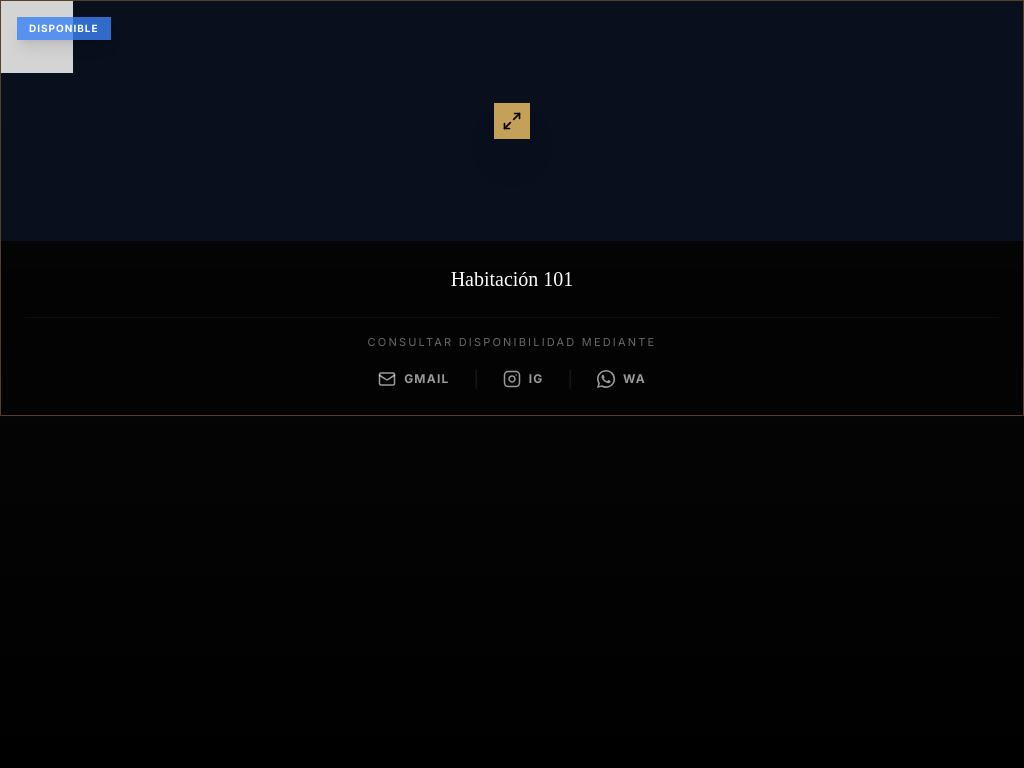
Test case: RoomCard › abre el lightbox al hacer clic en la imagen
Click the element with class "cursor-pointer".
click(512, 121)  # box [1,1,1023,241]
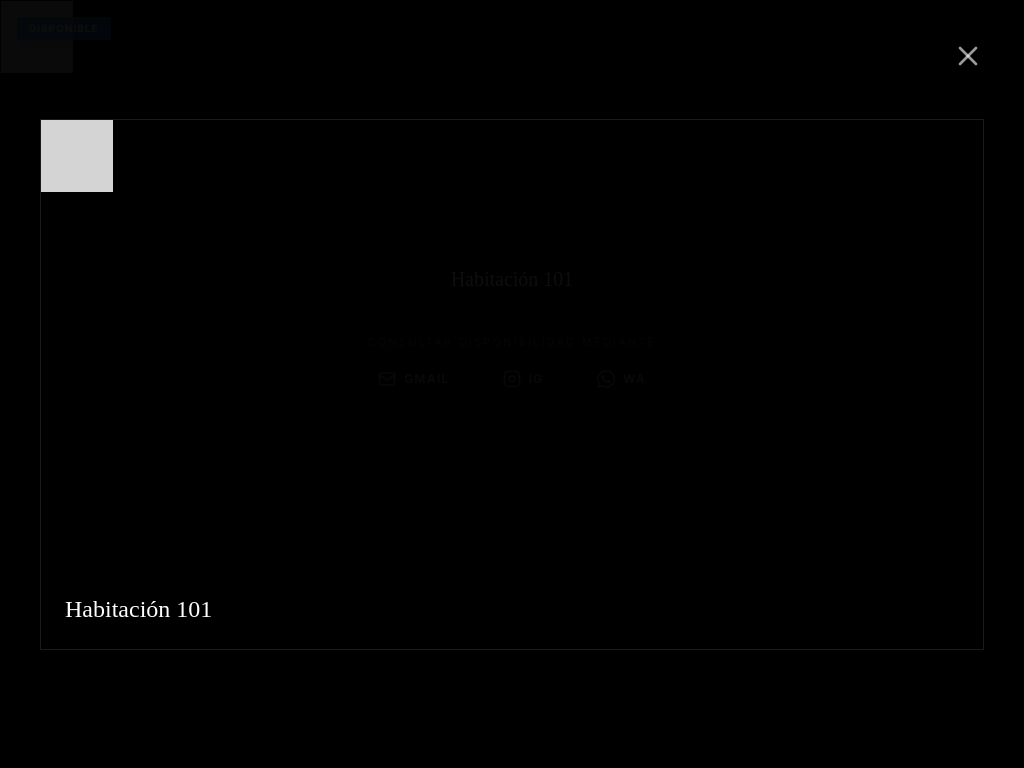
Expected: the element with class "inset-0" showing "Habitación 101" is shown
